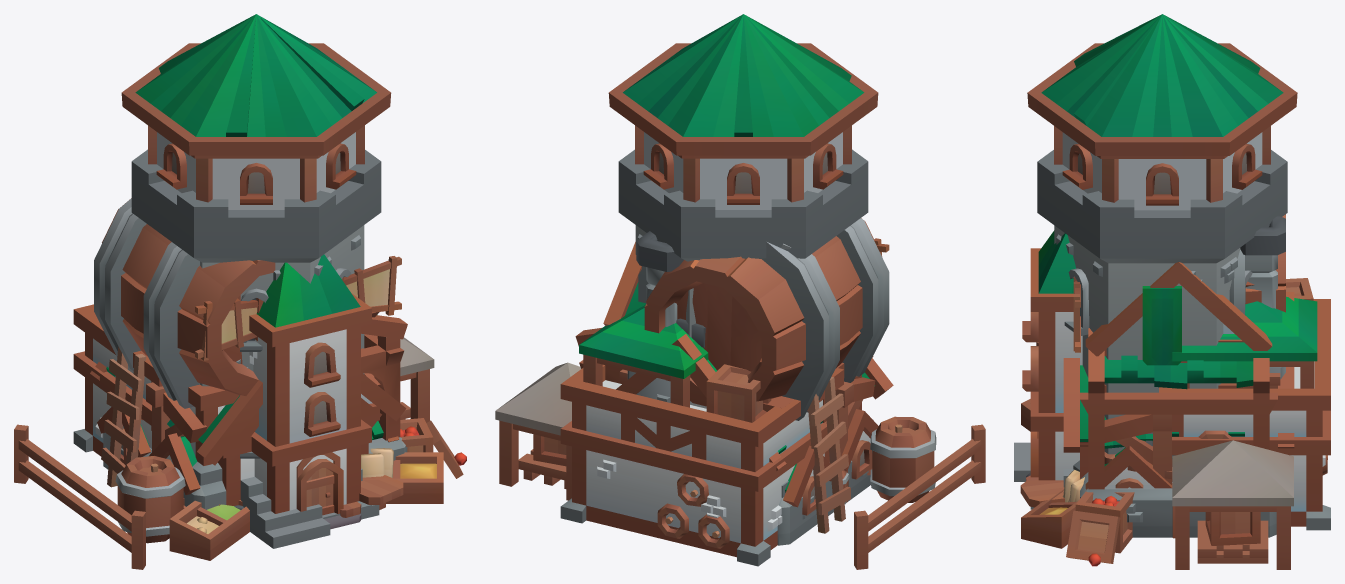
Rendered from HeroBuildings.glb.
3 renders of one model, left to right at view 1: azimuth 30°, elevation 25°; view 2: azimuth 150°, elevation 25°; view 3: azimuth 270°, elevation 25°, orthographic.
Parts seen in each view (by area): view 1: building_tower_A_top_green, building_church_green, building_tavern_green, building_market_green, building_tower_A_green, building_windmill_top_fan_green, building_home_A_green; view 2: building_market_green, building_tower_A_top_green, building_tavern_green, building_tower_A_green, building_church_green, building_home_B_green; view 3: building_market_green, building_tower_A_top_green, building_tower_A_green, building_tavern_green, building_church_green, building_home_B_green, building_windmill_top_fan_green.
Part boxes in pixels (box(x1,y1,x2,y2)): building_tower_A_top_green: box(121, 14, 391, 209); building_church_green: box(90, 254, 406, 515); building_tavern_green: box(94, 198, 407, 548); building_market_green: box(14, 304, 466, 569); building_tower_A_green: box(131, 149, 381, 529); building_windmill_top_fan_green: box(195, 256, 401, 360); building_home_A_green: box(223, 398, 381, 461); building_market_green: box(495, 305, 985, 569); building_tower_A_top_green: box(608, 14, 878, 209); building_tavern_green: box(575, 218, 889, 548); building_tower_A_green: box(618, 149, 868, 337); building_church_green: box(616, 334, 893, 515); building_home_B_green: box(603, 231, 761, 402); building_market_green: box(1021, 278, 1330, 569); building_tower_A_top_green: box(1027, 14, 1297, 210); building_tower_A_green: box(1026, 150, 1287, 477); building_tavern_green: box(1014, 214, 1327, 537); building_church_green: box(1022, 230, 1294, 489); building_home_B_green: box(1030, 215, 1285, 509); building_windmill_top_fan_green: box(1073, 277, 1080, 352).
Bounding box in the file's own units: 1.8 × 2.2 × 1.35.
1 material, 1 textured.
